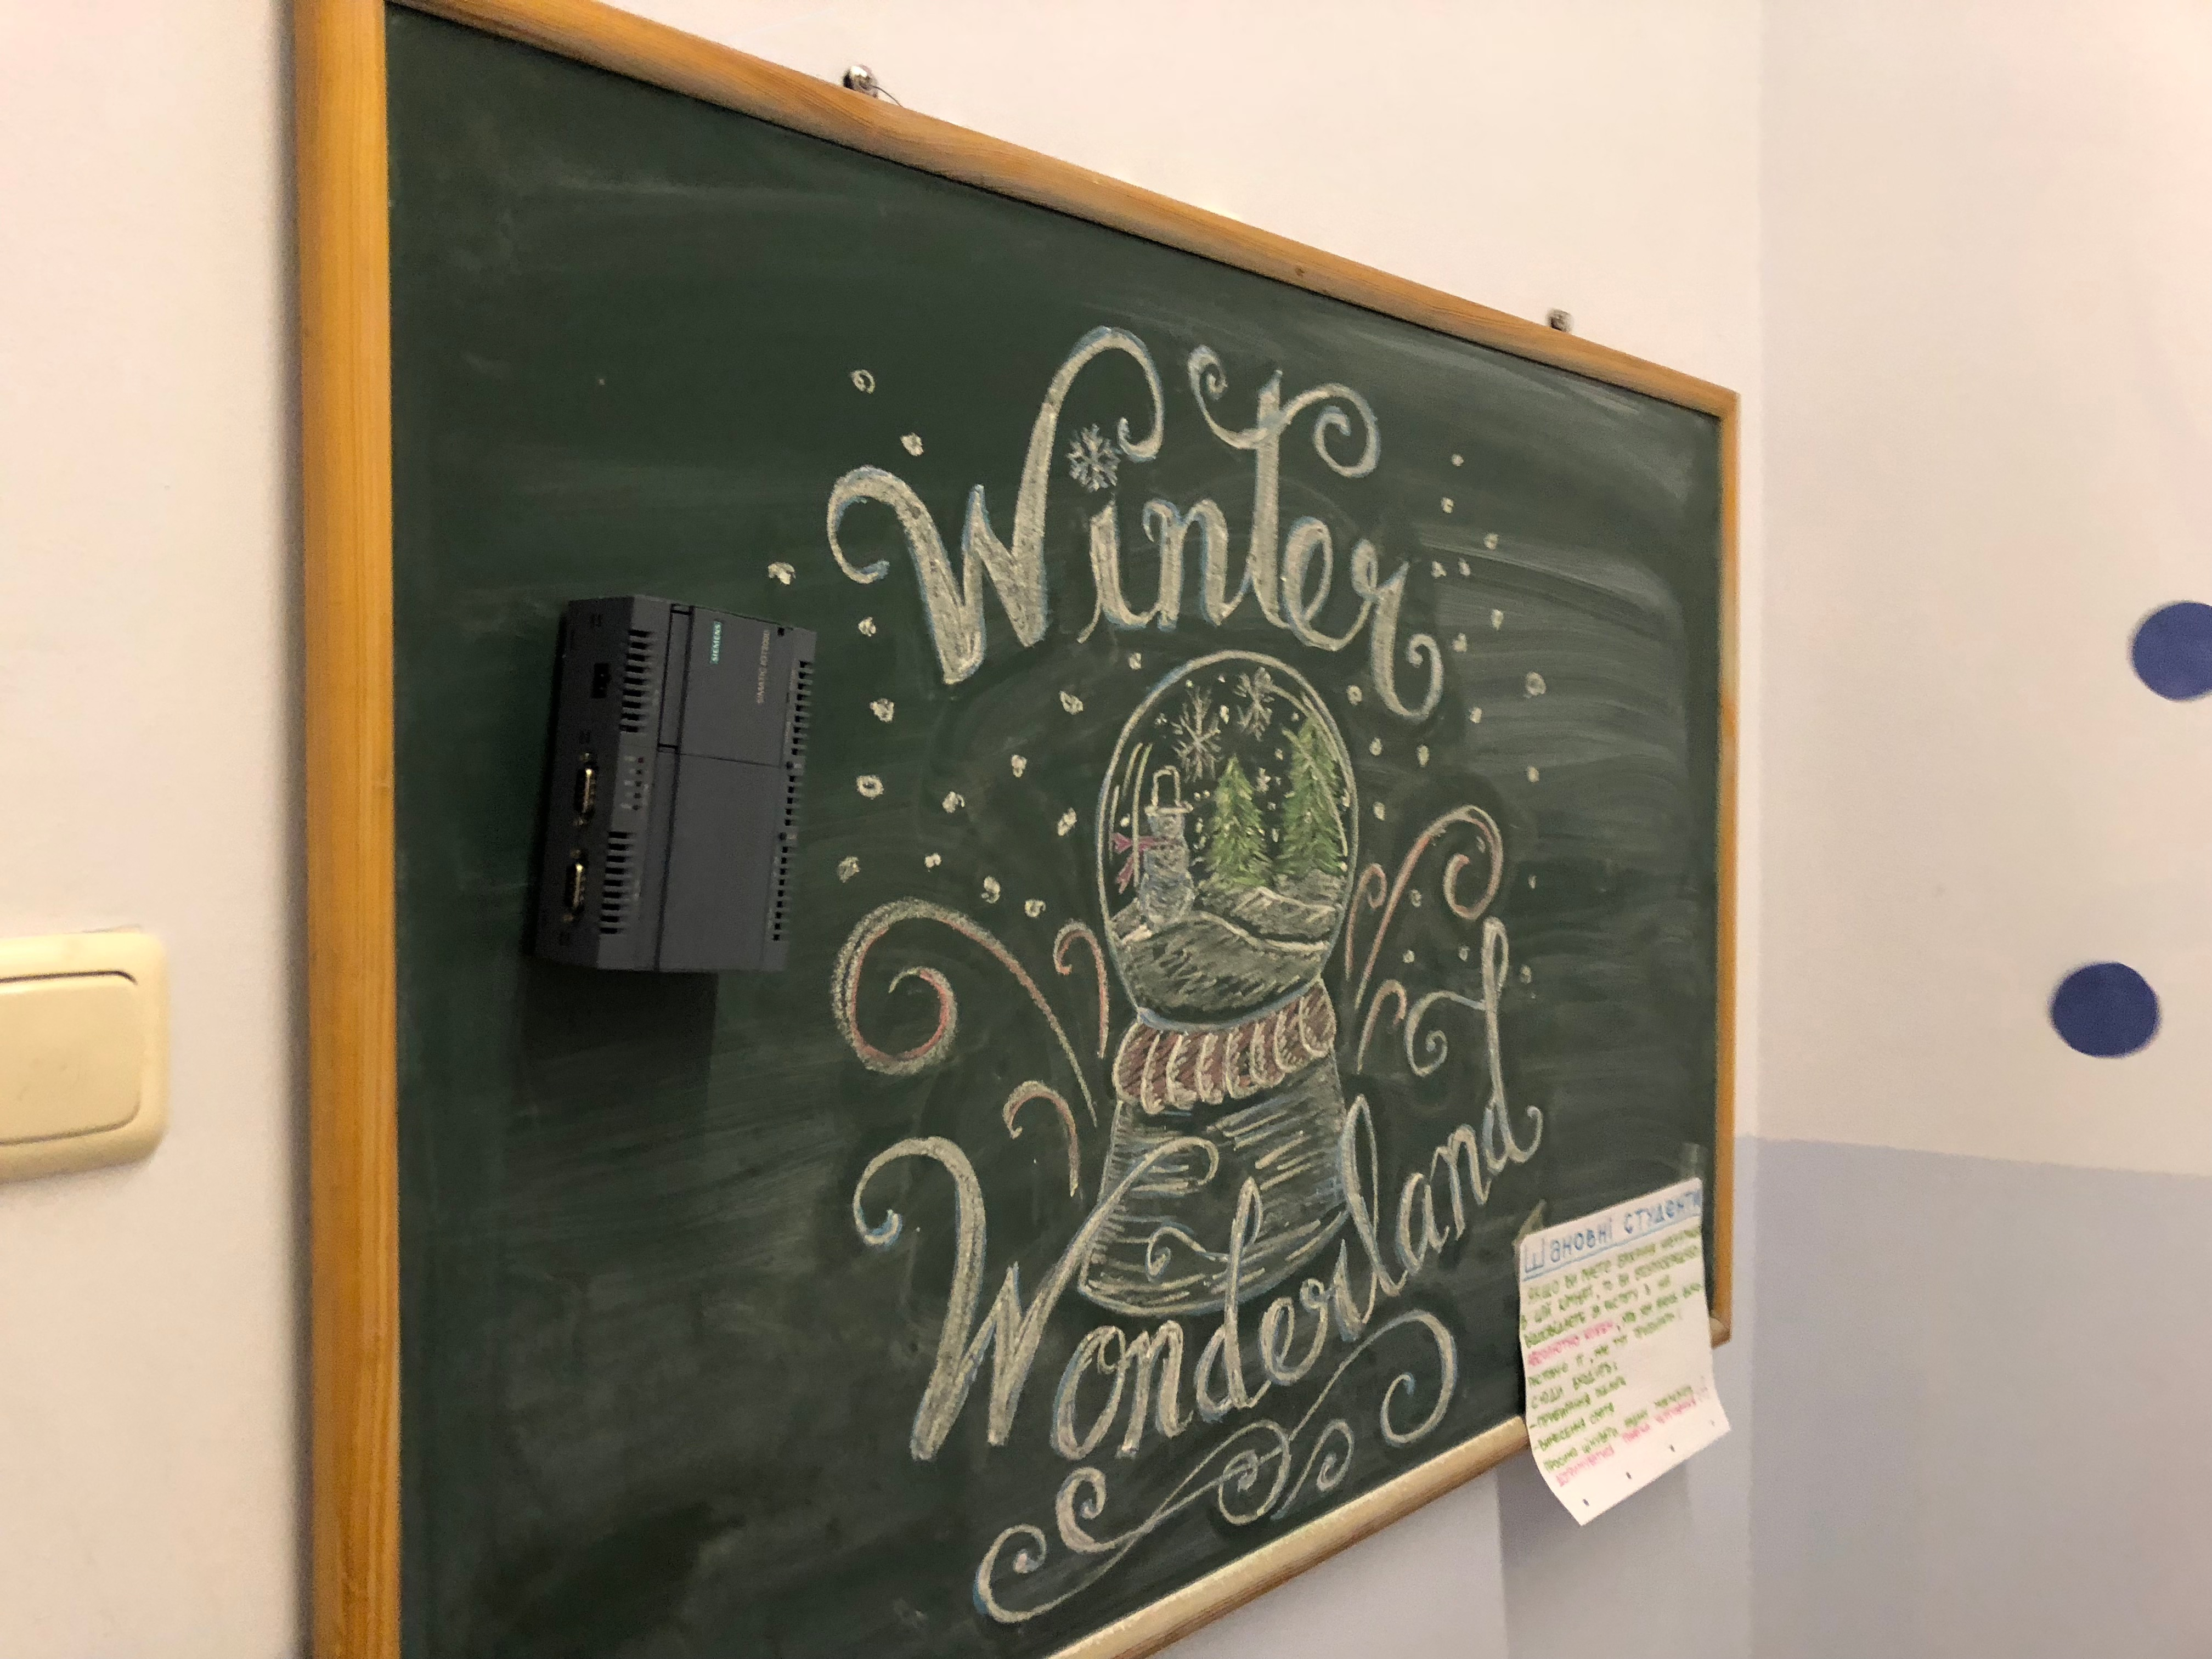device: (538, 596, 817, 972)
